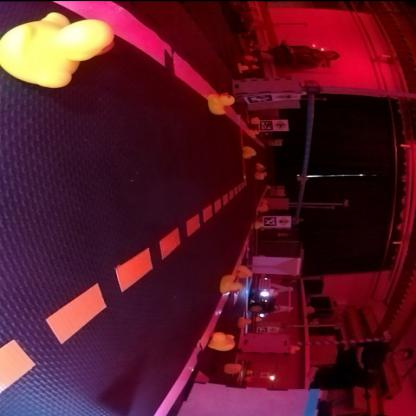Duckie: (8, 13, 116, 88), (209, 92, 234, 114), (210, 332, 236, 350), (222, 274, 242, 292)
Duckiebot: (250, 277, 274, 315)
Intersection sign: (275, 94, 299, 100), (276, 120, 288, 130)
QR code: (248, 94, 274, 104), (260, 121, 274, 131), (264, 216, 278, 226)
Signal sign: (278, 216, 291, 226)
